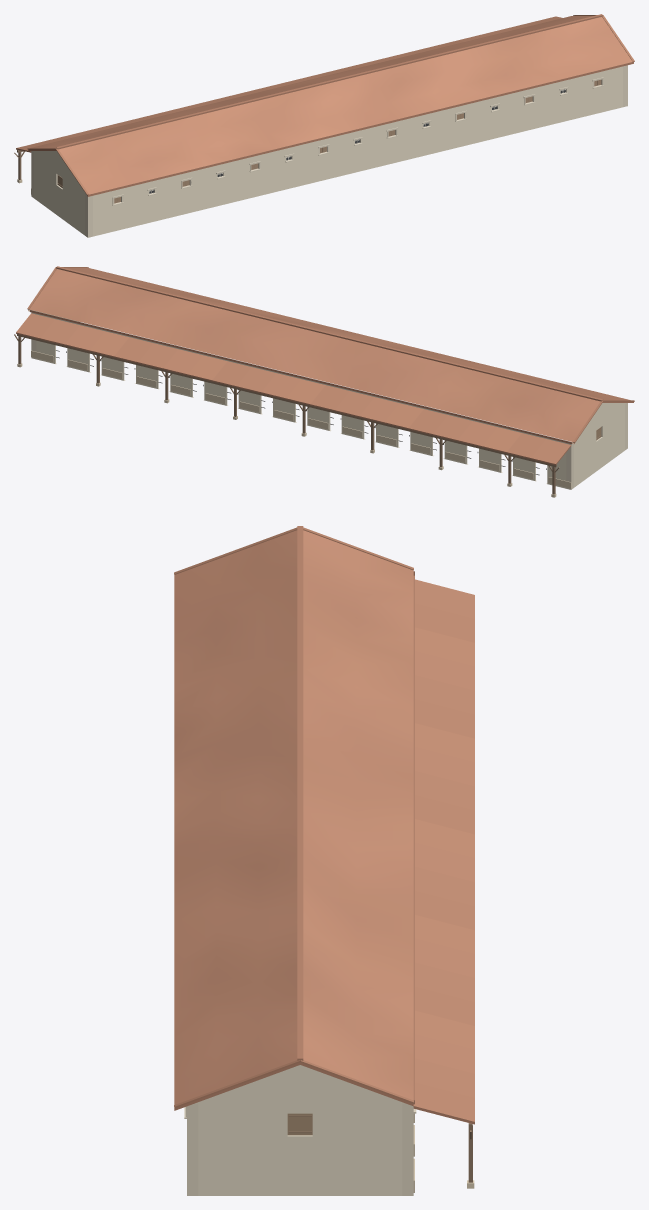
The model's file is SM_BM_BE_6_Stables.glb.
The picture shows the model from 3 angles, top to bottom: view 1: azimuth 30°, elevation 25°; view 2: azimuth 150°, elevation 25°; view 3: azimuth 270°, elevation 25°; orthographic projection. The views are drawn at different scales.
Parts seen in each view (by area): view 1: SM_BM_BE_6_Stables; view 2: SM_BM_BE_6_Stables; view 3: SM_BM_BE_6_Stables.
Boxes of the visible parts, <box> form: SM_BM_BE_6_Stables: <box>14,14,634,237</box>; SM_BM_BE_6_Stables: <box>14,266,634,497</box>; SM_BM_BE_6_Stables: <box>174,526,474,1195</box>.
Size of the model in its own units: 55.8 by 6.82 by 13.26.
